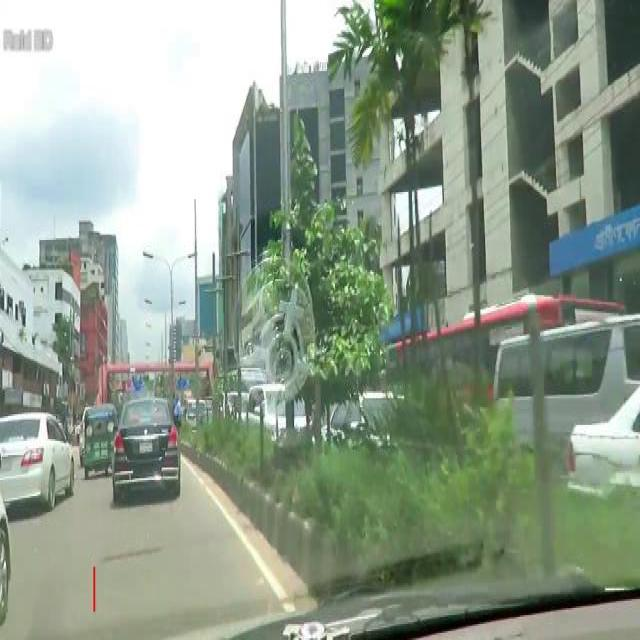car: (110, 391, 182, 509), (0, 407, 77, 512)
three wheelers -CNG-: (80, 401, 118, 481)
